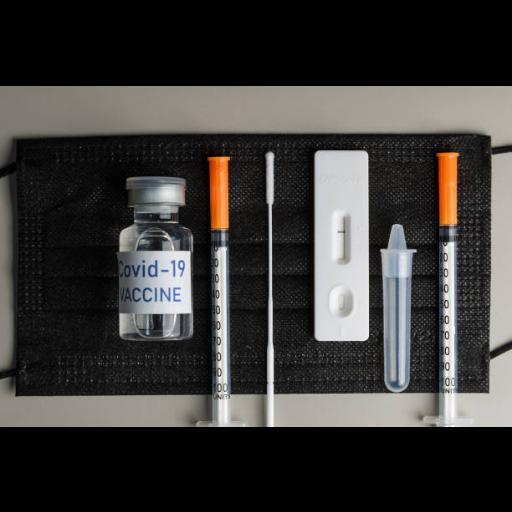Neg: (314, 150, 370, 340)
